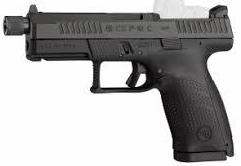gun: (1, 1, 241, 166)
